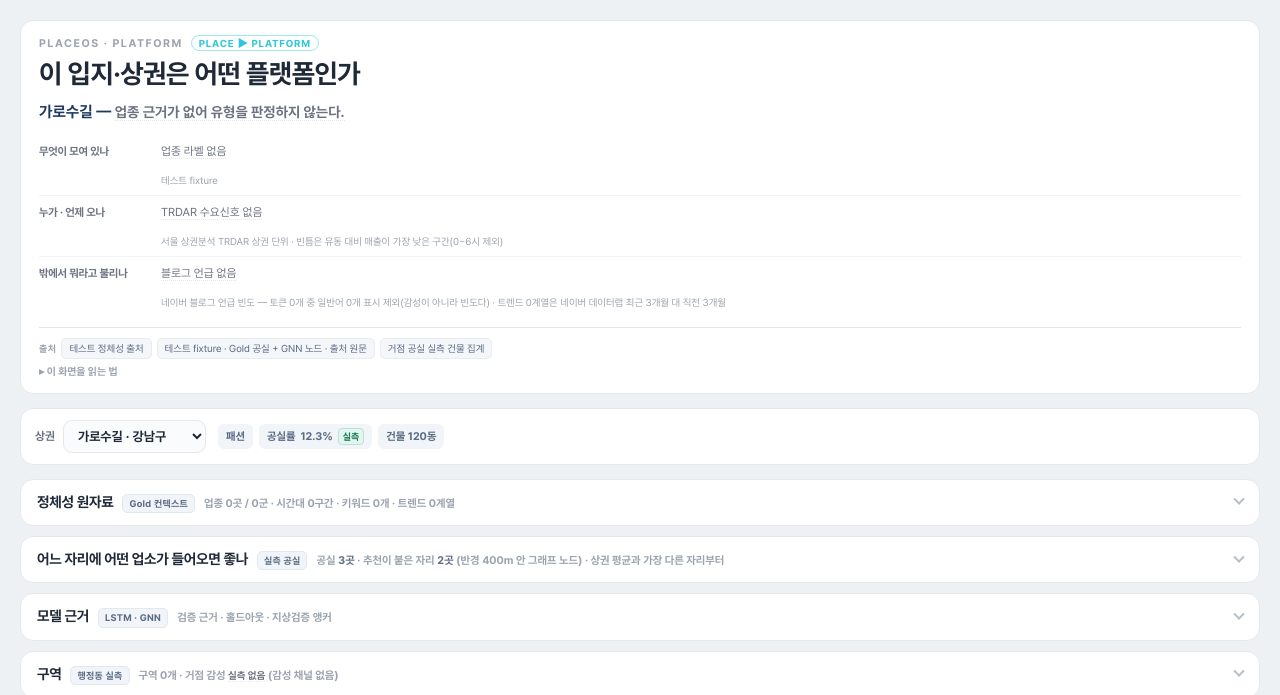
Test: PlatformConsole — 동일 상권 후보 비교 › 출처·근사 주석·원값 정밀도·단위를 유지하고 미제공 값과 0을 구분한다
Click the heading "어느 자리에 어떤 업소가 들어오면 좋나" at (641, 560), box x1=37 y1=550 x2=1245 y2=570
(page scrolled)
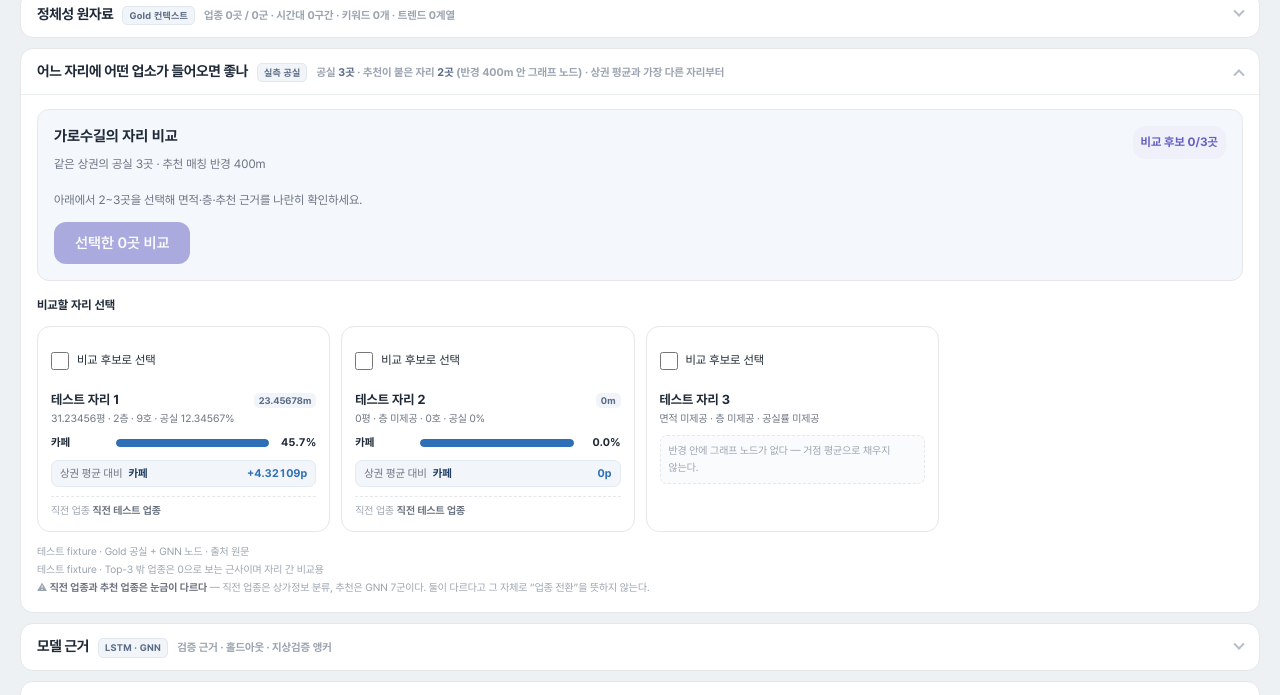
Click the 1st checkbox labelled "비교 후보로 선택" at (60, 361), box x1=51 y1=352 x2=69 y2=370
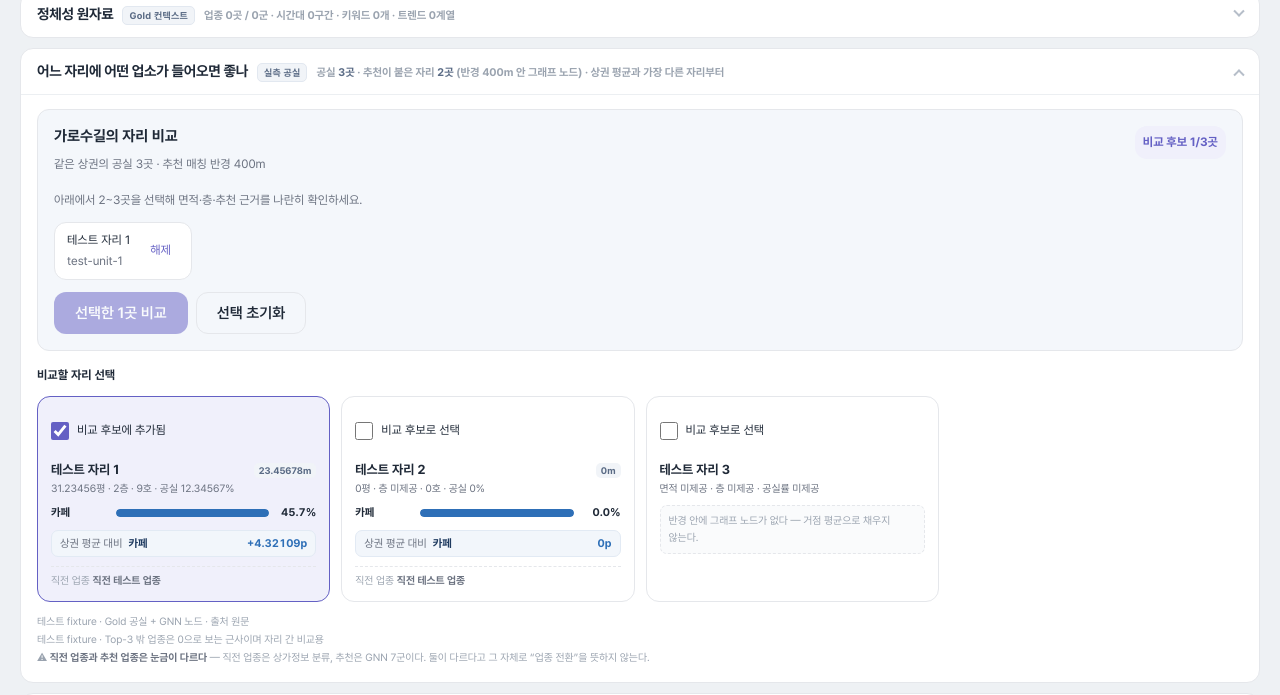
Click the 1st checkbox labelled "비교 후보로 선택" at (364, 431), box x1=355 y1=422 x2=373 y2=440
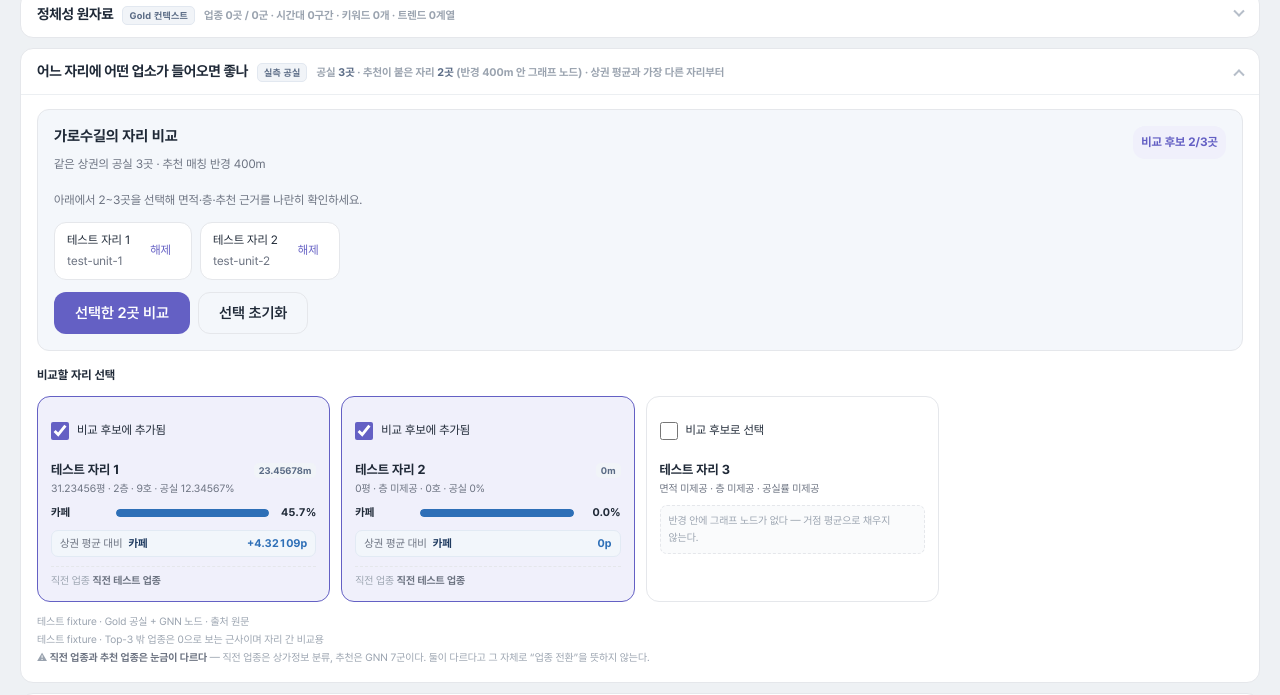
Click the checkbox labelled "비교 후보로 선택" at (668, 431), box x1=660 y1=422 x2=678 y2=440
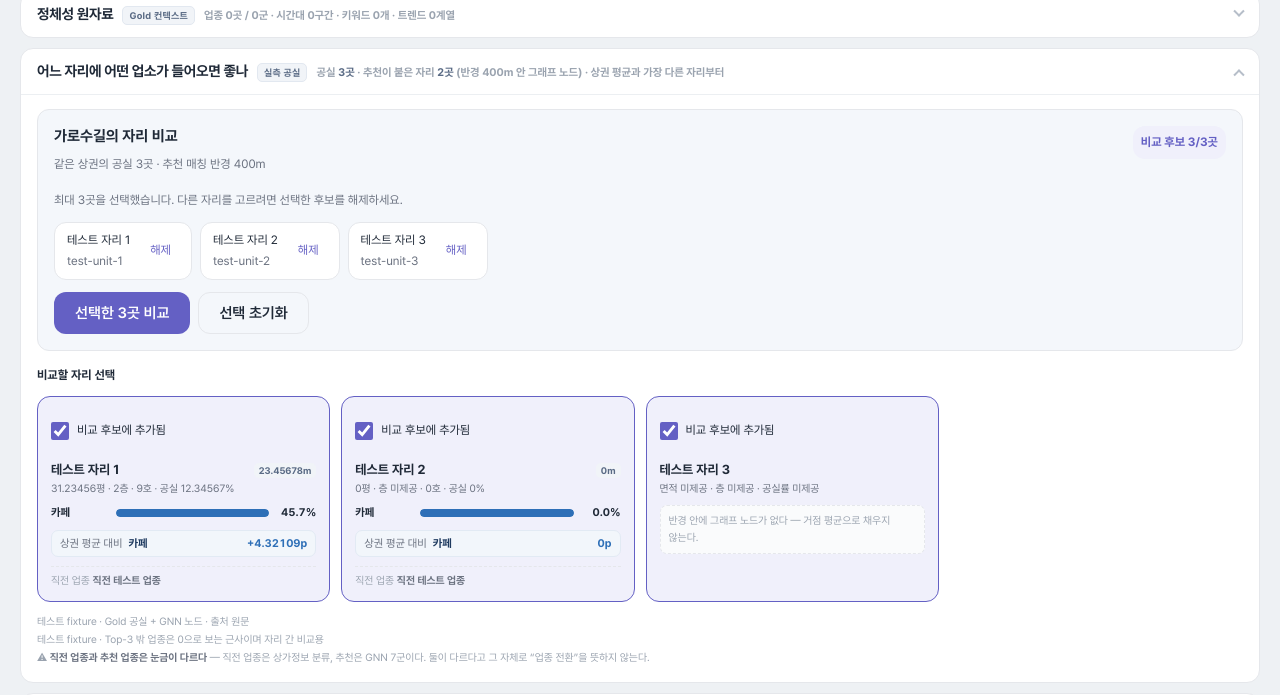
Click the button "선택한 3곳 비교" at (122, 313), box x1=54 y1=292 x2=190 y2=334
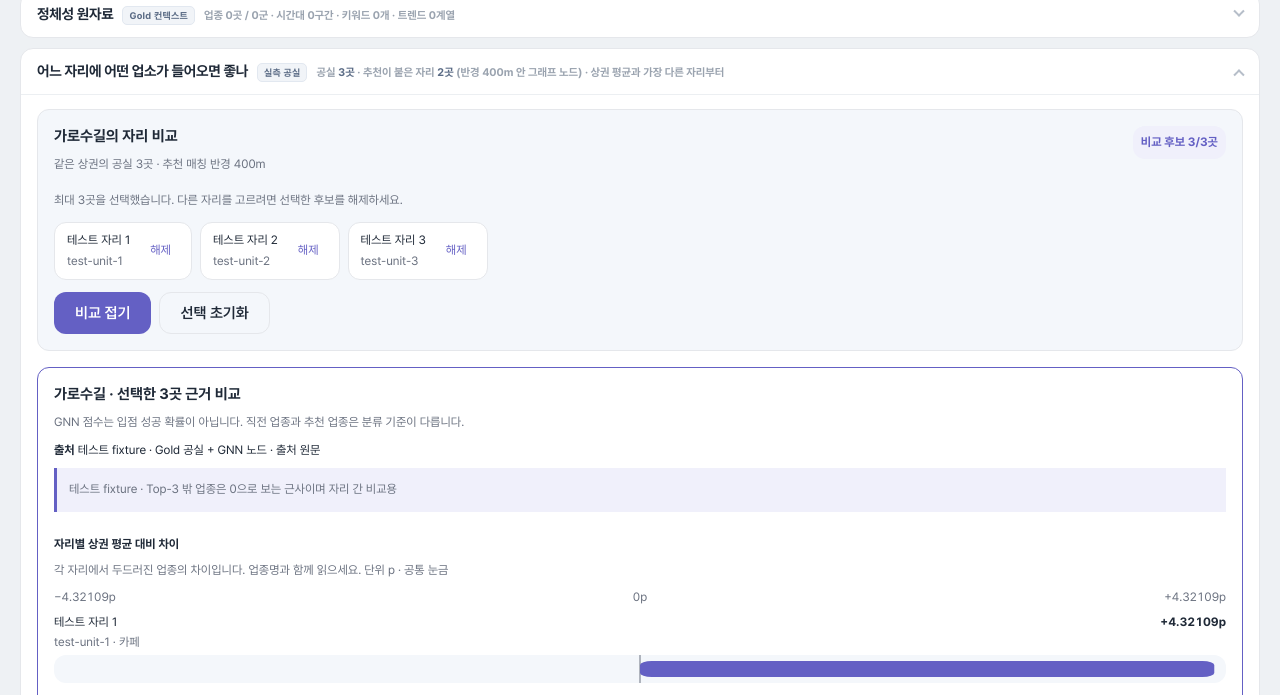
Expected: the text "테스트 fixture · Gold 공실 + GNN 노드 · 출처 원문" is shown, x1=78 y1=443 x2=320 y2=457
Expected: the text "테스트 fixture · Top-3 밖 업종은 0으로 보는 근사이며 자리 간 비교용" is shown, x1=54 y1=468 x2=1226 y2=512
